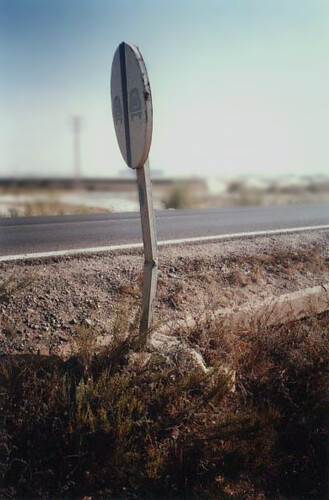sign: (97, 27, 179, 177)
sky: (1, 1, 308, 181)
street: (1, 196, 327, 269)
vegetation: (11, 278, 329, 500)
